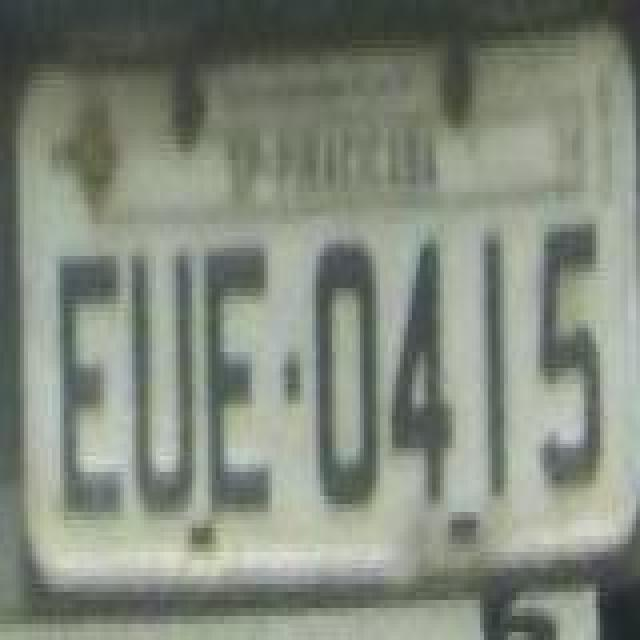1: (484, 232, 508, 504)
4: (392, 236, 456, 500)
5: (536, 218, 600, 494)
E: (200, 248, 272, 520), (54, 248, 122, 520)
O: (308, 238, 380, 514)
U: (128, 246, 200, 522)
